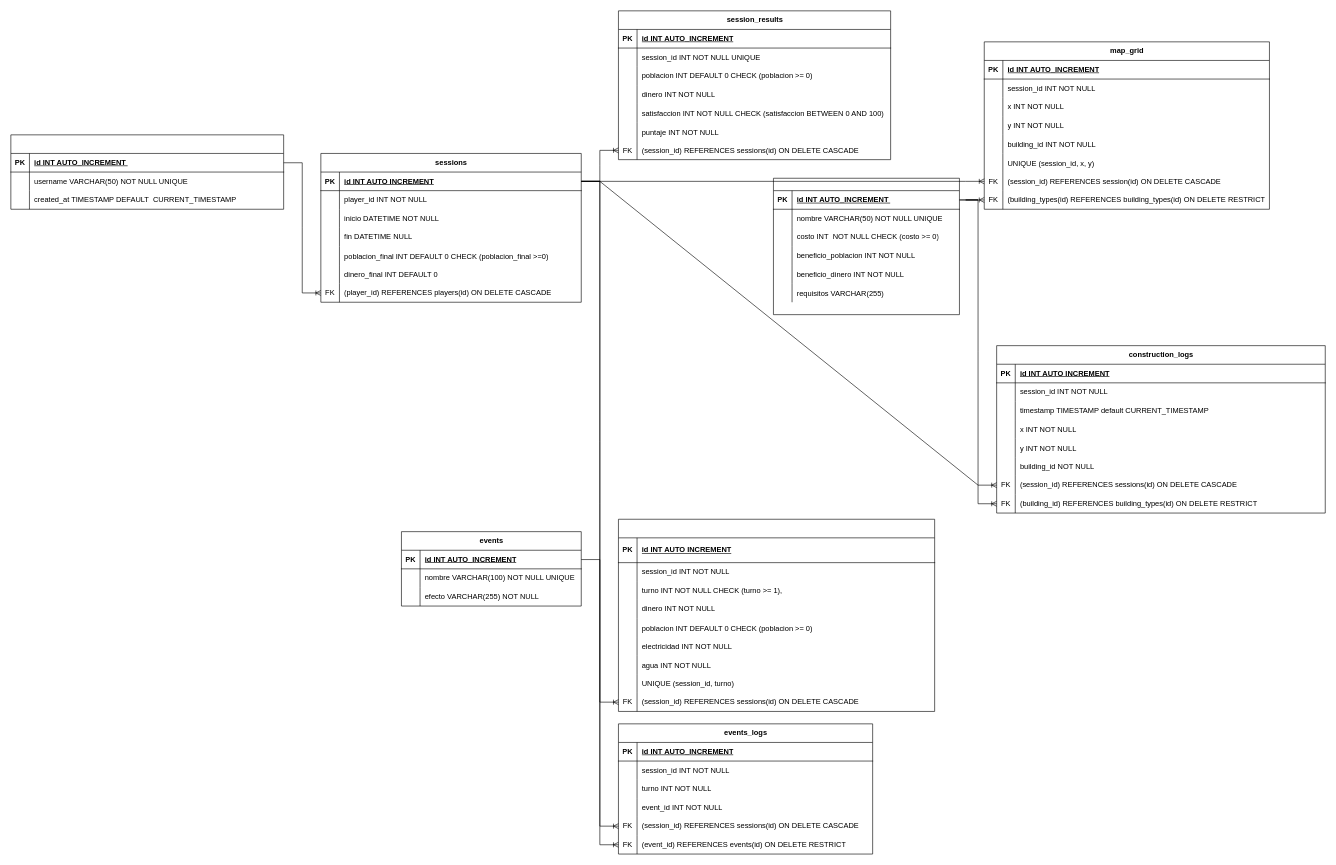
Some shapes in this 1336 by 865 pixel diagram are drawn without their labels. Here are the shapes that lost their labels. From the top down, the box of each, then its label:
(10, 134, 284, 209): players
(773, 178, 959, 315): building_types
(618, 519, 935, 711): resource_logs
